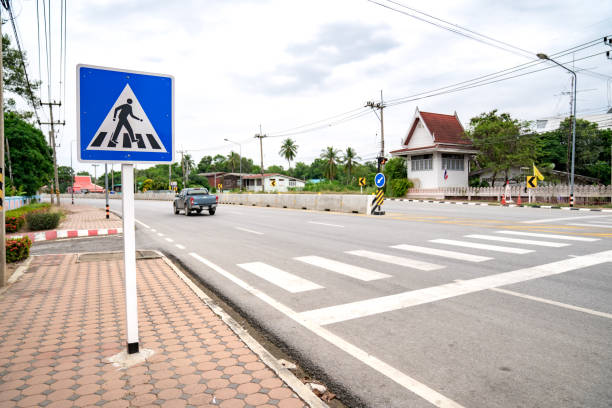otomobil: (154, 177, 240, 243)
yaya_gecidi: (75, 63, 177, 161)
